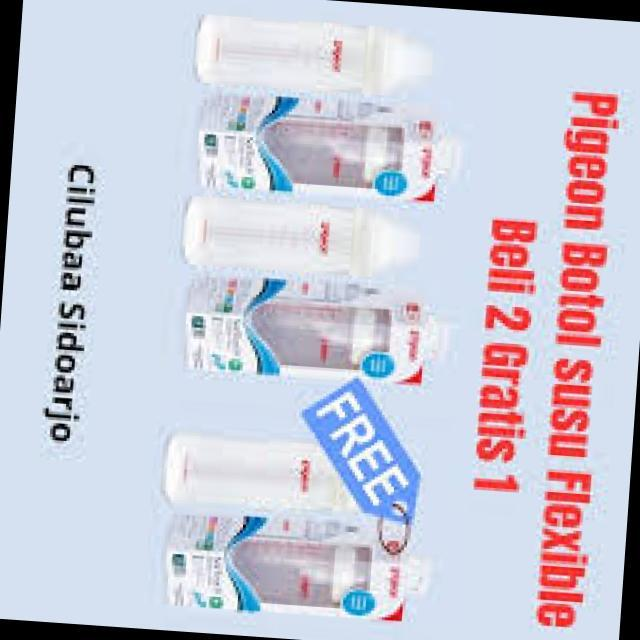good: (133, 382, 407, 550), (170, 164, 432, 308), (167, 0, 442, 131)
